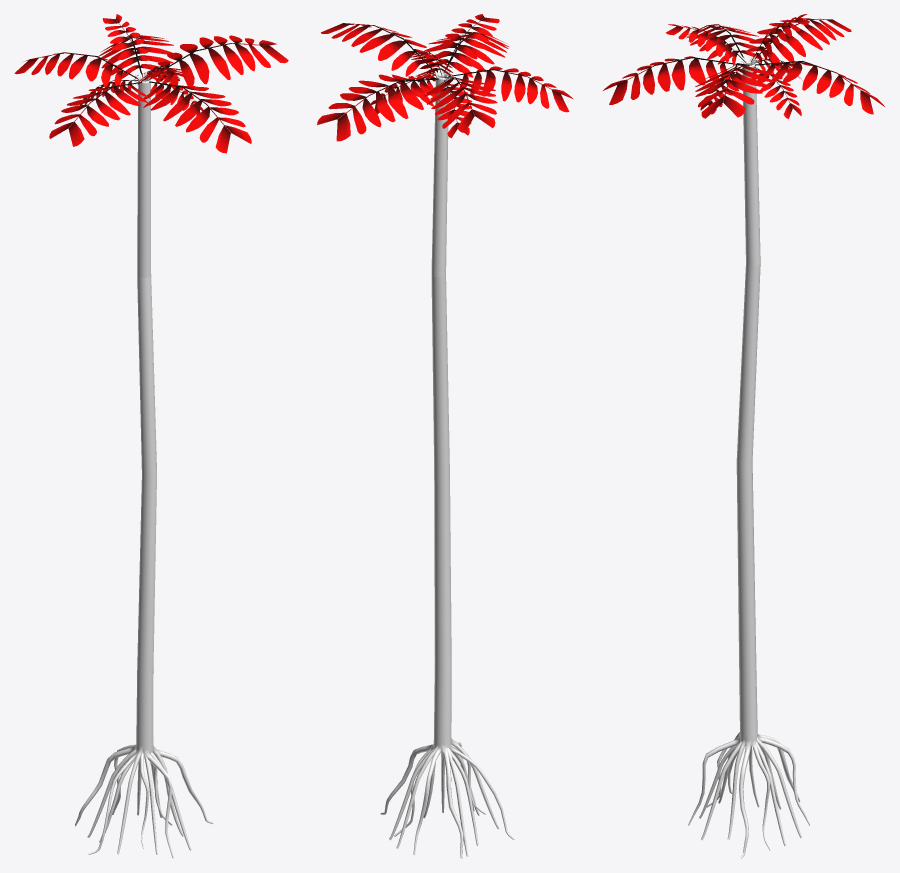
The model's file is MESH_Jungle_Palm_01.fbx.
3 views of the same model, side by side, from view 1: azimuth 30°, elevation 25°; view 2: azimuth 150°, elevation 25°; view 3: azimuth 270°, elevation 25° (orthographic).
Parts seen in each view (by area): view 1: Plane209; view 2: Plane209; view 3: Plane209.
Boxes of the visible parts, x1,y1,x2,y2 form: Plane209: [14, 14, 288, 858]; Plane209: [317, 14, 573, 858]; Plane209: [603, 14, 884, 858].
Bounding box in the file's own units: 9.28 × 30.01 × 9.48.
